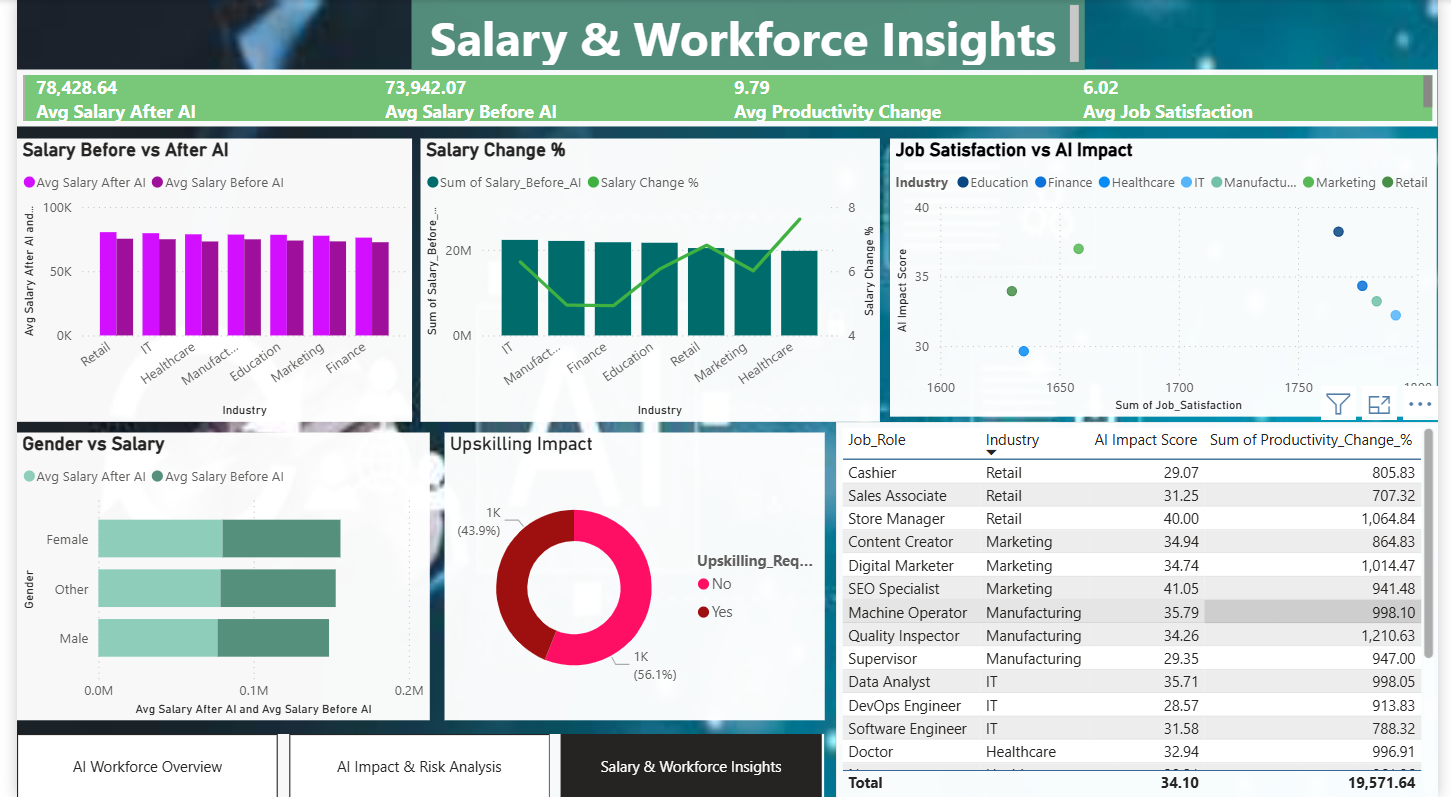

Layout of this report page (visuals, bound fields, positions):
{"tool":"powerbi","page":{"name":"Salary & Workforce Insights","canvas":[1280,720],"ordinal":2},"visuals":[{"type":"multiRowCard","fields":{"Values":["ai_job_impact fact.Avg Salary After AI","ai_job_impact fact.Avg Salary Before AI","ai_job_impact fact.Avg Productivity Change","ai_job_impact fact.Avg Job Satisfaction"]},"box":[0,64.1,1280,51],"z":0},{"type":"clusteredColumnChart","title":"Salary Before vs After AI","fields":{"Category":["Dim_industry&role.Industry"],"Y":["ai_job_impact fact.Avg Salary After AI","ai_job_impact fact.Avg Salary Before AI"]},"box":[0,125.4,355.7,255.1],"z":1000},{"type":"lineClusteredColumnComboChart","title":"Salary Change %","fields":{"Category":["Dim_industry&role.Industry"],"Y":["Sum(ai_job_impact fact.Salary_Before_AI)"],"Y2":["ai_job_impact fact.Salary Change %"]},"box":[363,125.4,414,255.1],"z":2000},{"type":"barChart","title":"Gender vs Salary","fields":{"Category":["Dim_age&gender.Gender"],"Y":["ai_job_impact fact.Avg Salary After AI","ai_job_impact fact.Avg Salary Before AI"]},"box":[0,390.7,371.8,259.5],"z":3000},{"type":"donutChart","title":"Upskilling Impact","fields":{"Category":["Dim_job status.Upskilling_Required"],"Y":["ai_job_impact fact.Total Employees"]},"box":[384.9,390.7,342.6,259.5],"z":4000},{"type":"scatterChart","title":"Job Satisfaction vs AI Impact","fields":{"X":["Sum(Dim_working status.Job_Satisfaction)"],"Y":["ai_job_impact fact.AI Impact Score"],"Category":["Dim_job status.Industry"],"Series":["Dim_job status.Industry"]},"box":[787.2,125.4,492.8,250.8],"z":5000},{"type":"tableEx","fields":{"Values":["Dim_job status.Job_Role","Dim_job status.Industry","ai_job_impact fact.AI Impact Score","Sum(Dim_working status.Productivity_Change_%)"]},"box":[738,381.2,543.4,339.3],"z":6000},{"type":"textbox","box":[355.3,0,606.6,64.3],"z":7000},{"type":"pageNavigator","box":[0,661.9,727.5,58.3],"z":8000}]}

Visuals, with their boxes in screenshot pixels (x1, y1, x2, y2), scaled from the page's 1280x720 canvas onto the 1451x797 screenshot:
multiRowCard - ai_job_impact fact.Avg Salary After AI x ai_job_impact fact.Avg Salary Before AI: {"left": 0, "top": 71, "right": 1450, "bottom": 127}
"Salary Before vs After AI" clusteredColumnChart: {"left": 0, "top": 139, "right": 403, "bottom": 421}
"Salary Change %" lineClusteredColumnComboChart: {"left": 411, "top": 139, "right": 881, "bottom": 421}
"Gender vs Salary" barChart: {"left": 0, "top": 432, "right": 421, "bottom": 720}
"Upskilling Impact" donutChart: {"left": 436, "top": 432, "right": 825, "bottom": 720}
"Job Satisfaction vs AI Impact" scatterChart: {"left": 892, "top": 139, "right": 1450, "bottom": 416}
tableEx - Dim_job status.Job_Role x Dim_job status.Industry: {"left": 837, "top": 422, "right": 1450, "bottom": 796}
textbox: {"left": 403, "top": 0, "right": 1090, "bottom": 71}
pageNavigator: {"left": 0, "top": 733, "right": 825, "bottom": 796}
